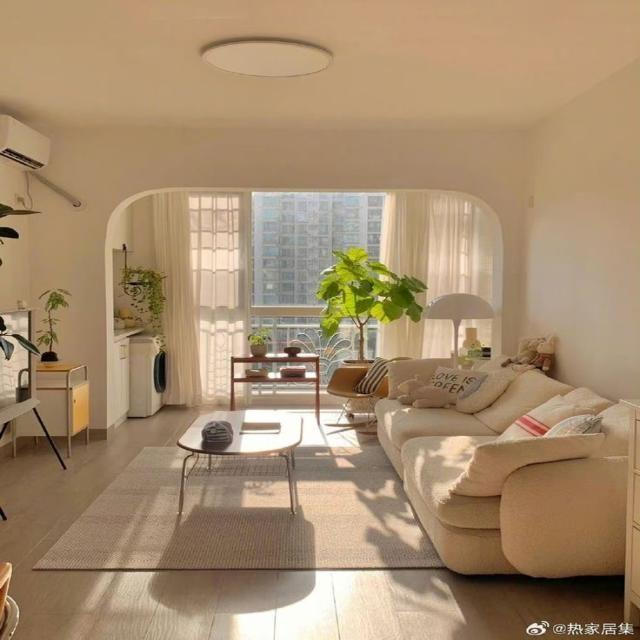obstacle: (373, 354, 635, 580), (175, 409, 302, 516), (230, 352, 320, 424)
